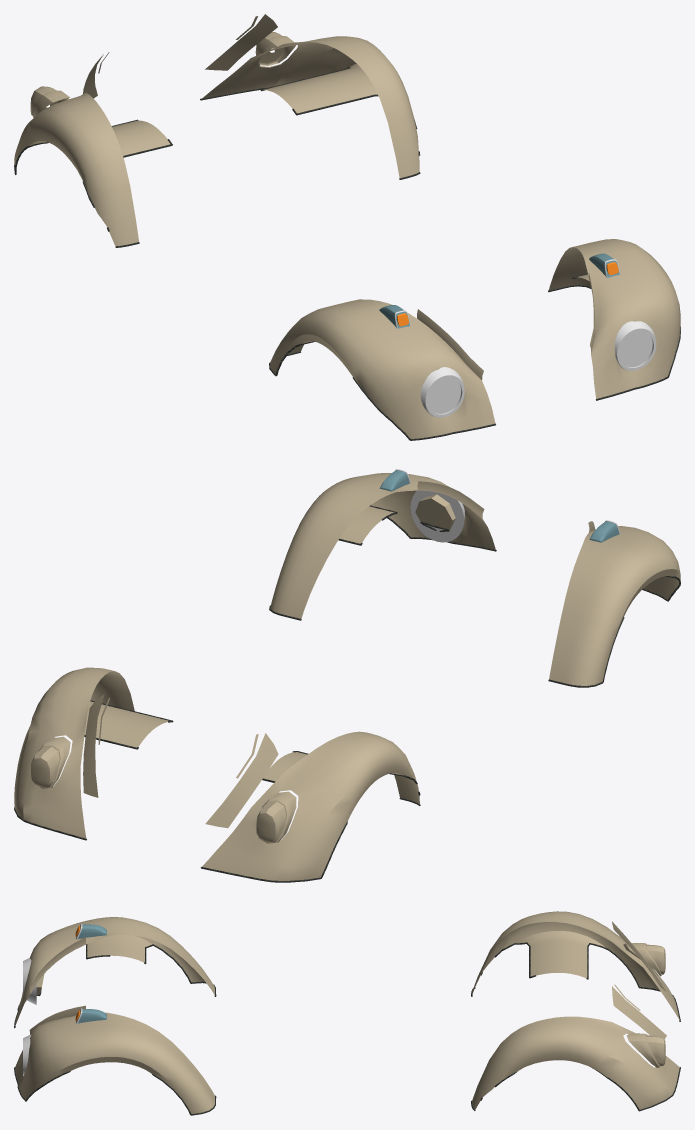
The model's file is STAGE2_PART_010_FiberglassWideFenders.glb.
The picture shows the model from 3 angles, top to bottom: view 1: azimuth 30°, elevation 25°; view 2: azimuth 150°, elevation 25°; view 3: azimuth 270°, elevation 25°; orthographic projection. The views are drawn at different scales.
Visible parts, largest first — view 1: BODY_Stage2_Fender_FR_0, BODY_Stage2_Fender_RL_0, BODY_Stage2_Fender_FL_0, BODY_Stage2_Fender_RR_0, EXTERIOR_Stage2_B_HeadlightGlass_0, EXTERIOR_Stage2_B_HeadlightTrim_0, EXTERIOR_Stage2_B_TurnSignal_0; view 2: BODY_Stage2_Fender_RR_0, BODY_Stage2_Fender_RL_0, BODY_Stage2_Fender_FL_0, BODY_Stage2_Fender_FR_0, EXTERIOR_Stage2_B_HeadlightTrim_0, BODY_Stage2_Fender_RR_1, BODY_Stage2_Fender_RL_1, EXTERIOR_Stage2_B_TurnSignal_0; view 3: BODY_Stage2_Fender_RL_0, BODY_Stage2_Fender_FL_0, BODY_Stage2_Fender_RR_0, BODY_Stage2_Fender_FR_0, EXTERIOR_Stage2_B_TurnSignal_0, EXTERIOR_Stage2_B_HeadlightTrim_0, TRIM_Stage2_Fender_RR_0, BODY_Stage2_Fender_RL_1, BODY_Stage2_Fender_RR_1, TRIM_Stage2_Fender_FL_0, TRIM_Stage2_Fender_FR_0.
Part boxes in pixels (x1,y1,x2,y2): BODY_Stage2_Fender_FR_0: (270, 299, 495, 438); BODY_Stage2_Fender_RL_0: (202, 14, 419, 178); BODY_Stage2_Fender_FL_0: (548, 239, 680, 398); BODY_Stage2_Fender_RR_0: (14, 52, 170, 246); EXTERIOR_Stage2_B_HeadlightGlass_0: (428, 331, 652, 413); EXTERIOR_Stage2_B_HeadlightTrim_0: (420, 321, 656, 417); EXTERIOR_Stage2_B_TurnSignal_0: (379, 253, 619, 328); BODY_Stage2_Fender_RR_0: (202, 731, 419, 880); BODY_Stage2_Fender_RL_0: (14, 667, 168, 838); BODY_Stage2_Fender_FL_0: (270, 473, 495, 618); BODY_Stage2_Fender_FR_0: (549, 521, 680, 685); EXTERIOR_Stage2_B_HeadlightTrim_0: (410, 490, 464, 542); BODY_Stage2_Fender_RR_1: (256, 801, 285, 842); BODY_Stage2_Fender_RL_1: (30, 746, 59, 787); EXTERIOR_Stage2_B_TurnSignal_0: (379, 470, 619, 542); BODY_Stage2_Fender_RL_0: (472, 984, 679, 1109); BODY_Stage2_Fender_FL_0: (15, 1005, 214, 1114); BODY_Stage2_Fender_RR_0: (472, 911, 679, 1019); BODY_Stage2_Fender_FR_0: (15, 917, 214, 1026); EXTERIOR_Stage2_B_TurnSignal_0: (76, 924, 106, 1023); EXTERIOR_Stage2_B_HeadlightTrim_0: (23, 958, 36, 1075); TRIM_Stage2_Fender_RR_0: (471, 942, 680, 1021); BODY_Stage2_Fender_RL_1: (646, 1035, 665, 1065); BODY_Stage2_Fender_RR_1: (646, 944, 665, 974); TRIM_Stage2_Fender_FL_0: (14, 1067, 216, 1115); TRIM_Stage2_Fender_FR_0: (14, 944, 216, 1028).
Size of the model in its own units: 1.66 by 0.565 by 3.54.
